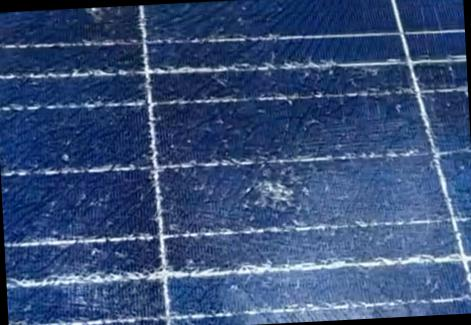Crack: (238, 164, 306, 220)
